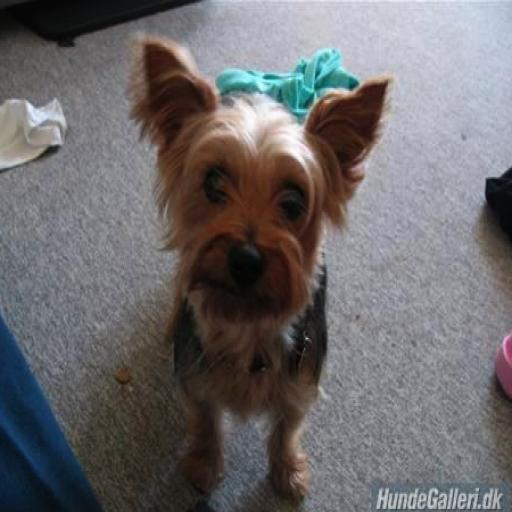dog_face: (145, 39, 381, 326)
